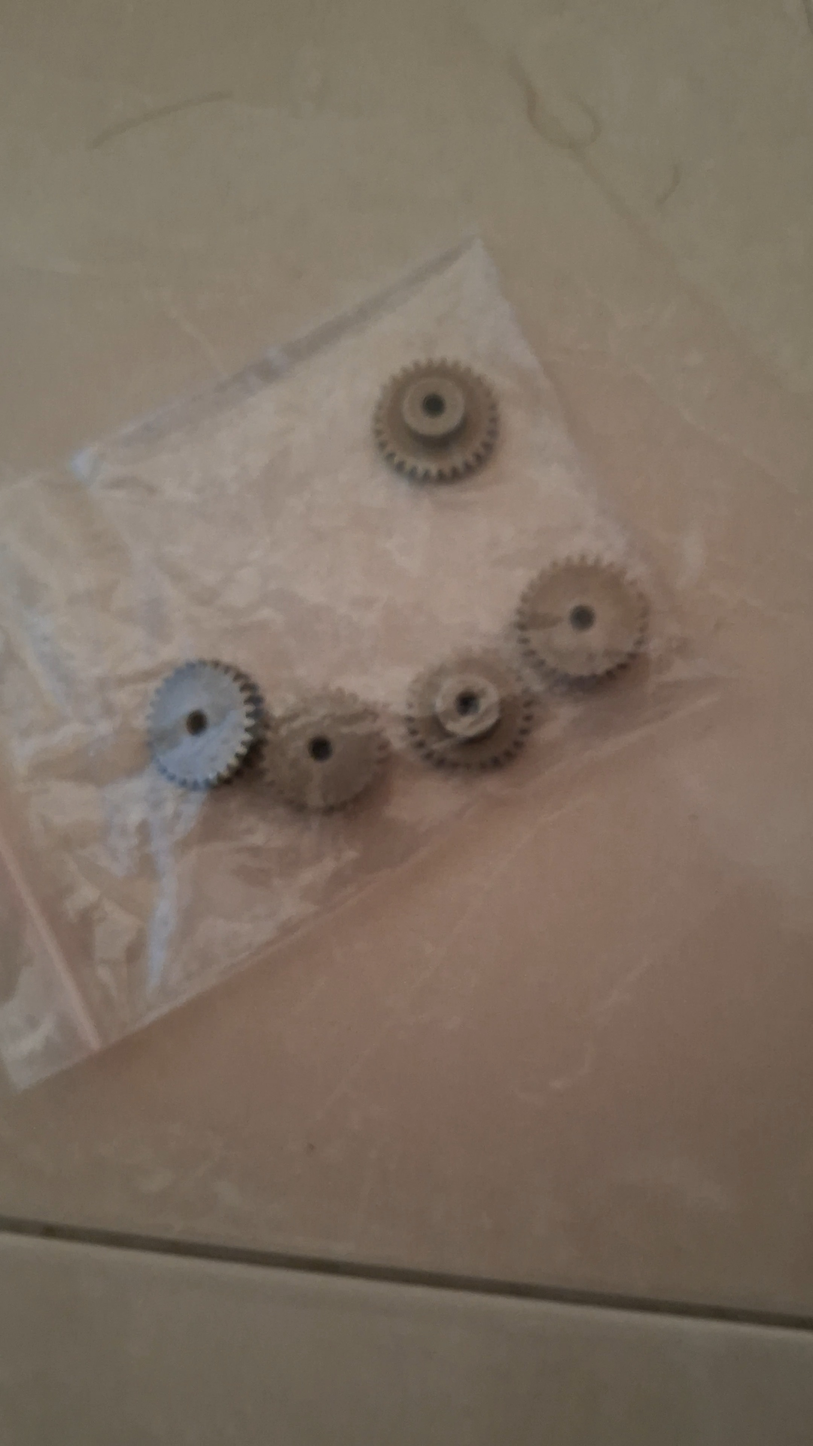spur gear: (515, 557, 648, 681), (373, 360, 498, 481), (263, 691, 388, 811), (405, 652, 533, 769), (148, 660, 264, 789)
